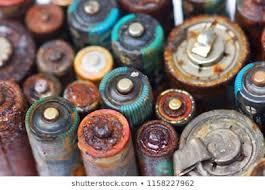battery: (159, 8, 249, 90), (22, 93, 80, 178), (75, 109, 137, 176), (96, 67, 153, 119), (133, 121, 177, 174)
